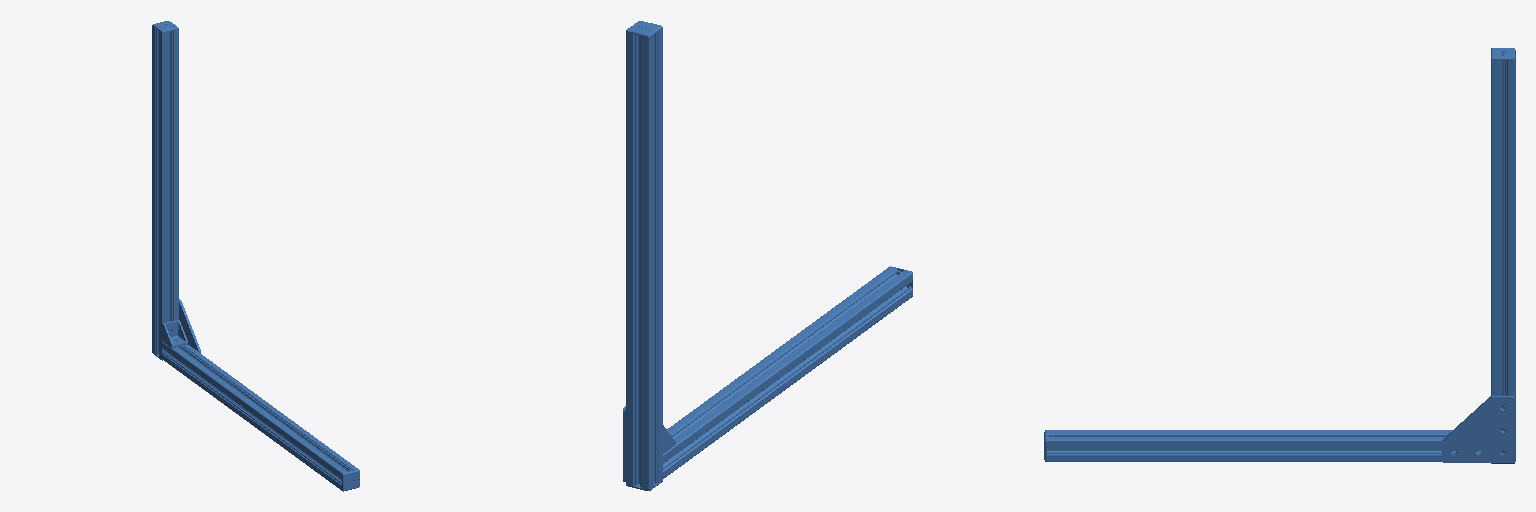
The robot description file, URDF, robot "vention":
<?xml version="1.0" ?>
<robot name="vention">

  <link name="world"/>

  <joint name="world_joint" type="fixed">
    <parent link="world"/>
    <child link="fixed_link"/>
    <origin rpy="0.0 0.0 0.0" xyz="0.0 0.0 0.0"/>
  </joint>

  <link name="fixed_link">
    <visual>
      <geometry>
        <mesh filename="vention_meshes/vention_fixed.obj" scale="0.001 0.001 0.001"/>
      </geometry>
      <material name="blue">
        <color rgba="0.337 0.529 0.757 1.0"/>
      </material>
    </visual>
  </link>

  <joint name="left_pillar_joint" type="prismatic">
    <parent link="fixed_link"/>
    <child link="left_pillar_link"/>
    <origin rpy="0.0 0.0 0.0" xyz="0.0 0.0 0.0"/>
    <axis xyz="1 0 0"/>
    <limit lower="-1" upper="1" velocity="1"/>
  </joint>

  <link name="left_pillar_link">
    <visual>
      <geometry>
        <mesh filename="vention_meshes/vention_pillar.obj" scale="0.001 0.001 0.001"/>
      </geometry>
      <material name="blue">
        <color rgba="0.337 0.529 0.757 1.0"/>
      </material>
    </visual>
  </link>

  <joint name="right_pillar_joint" type="prismatic">
    <parent link="fixed_link"/>
    <child link="right_pillar_link"/>
    <origin rpy="0.0 0.0 0.0" xyz="0.0 0.0 0.0"/>
    <axis xyz="1 0 0"/>
    <limit lower="-1" upper="1" velocity="0.1"/>
  </joint>

  <link name="right_pillar_link">
    <visual>
      <geometry>
        <mesh filename="vention_meshes/vention_pillar.obj" scale="0.001 0.001 0.001"/>
      </geometry>
      <material name="blue">
        <color rgba="0.337 0.529 0.757 1.0"/>
      </material>
    </visual>
  </link>

  <joint name="h_cam_joint" type="prismatic">
    <parent link="fixed_link"/>
    <child link="invisible_link"/>
    <origin rpy="0.0 0.0 0.0" xyz="0.0 0.0 0.0"/>
    <axis xyz="1 0 0"/>
    <limit lower="-1" upper="1" velocity="0.1"/>
  </joint>

  <link name="invisible_link">
    <!-- <visual>
      <geometry>
        <mesh filename="vention_meshes/vention_camera.obj" scale="0.001 0.001 0.001"/>
      </geometry>
      <material name="blue">
        <color rgba="0.337 0.529 0.757 1.0"/>
      </material>
    </visual> -->
  </link>

  <joint name="v_cam_joint" type="prismatic">
    <parent link="invisible_link"/>
    <child link="cam_link"/>
    <origin rpy="0.0 0.0 0.0" xyz="0.0 0.0 0.0"/>
    <axis xyz="0 1 0"/>
    <limit lower="-1" upper="1" velocity="0.1"/>
  </joint>

  <link name="cam_link">
    <visual>
      <geometry>
        <mesh filename="vention_meshes/vention_camera.obj" scale="0.001 0.001 0.001"/>
      </geometry>
      <material name="blue">
        <color rgba="0.337 0.529 0.757 1.0"/>
      </material>
    </visual>
  </link>

  </robot>

--- What the picture shows (computed from the rendered views, not written in the file) ---
The picture shows the robot from 3 angles, left to right: view 1: azimuth 30°, elevation 25°; view 2: azimuth 150°, elevation 25°; view 3: azimuth 270°, elevation 25°; orthographic projection.
Model vention with 6 links and 5 joints (4 prismatic, 1 fixed), rooted at world, posed all joints at 0.
Visible links, largest first — view 1: cam_link; view 2: cam_link; view 3: cam_link.
Boxes of the visible links, x1,y1,x2,y2 form: cam_link: [152, 21, 359, 491]; cam_link: [623, 21, 912, 490]; cam_link: [1044, 48, 1515, 463].
Size in the robot's own frame: 0.051 by 0.859 by 0.818 metres.
Meshes: 3 distinct files referenced, 1 mesh visuals loaded (1 OBJ); not drawn: 3 (reference not matched to a file when rendering).